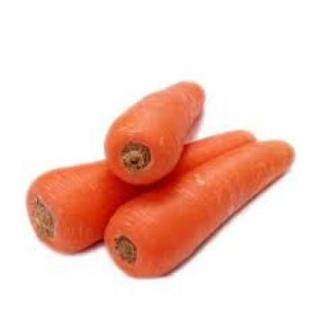Wortel: (103, 139, 296, 277), (103, 81, 209, 186)
